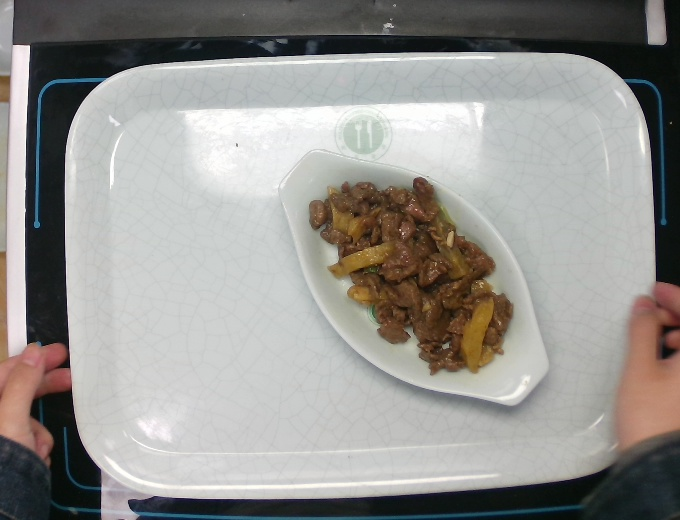JYsf-Yu_Pan: (280, 138, 552, 410)
